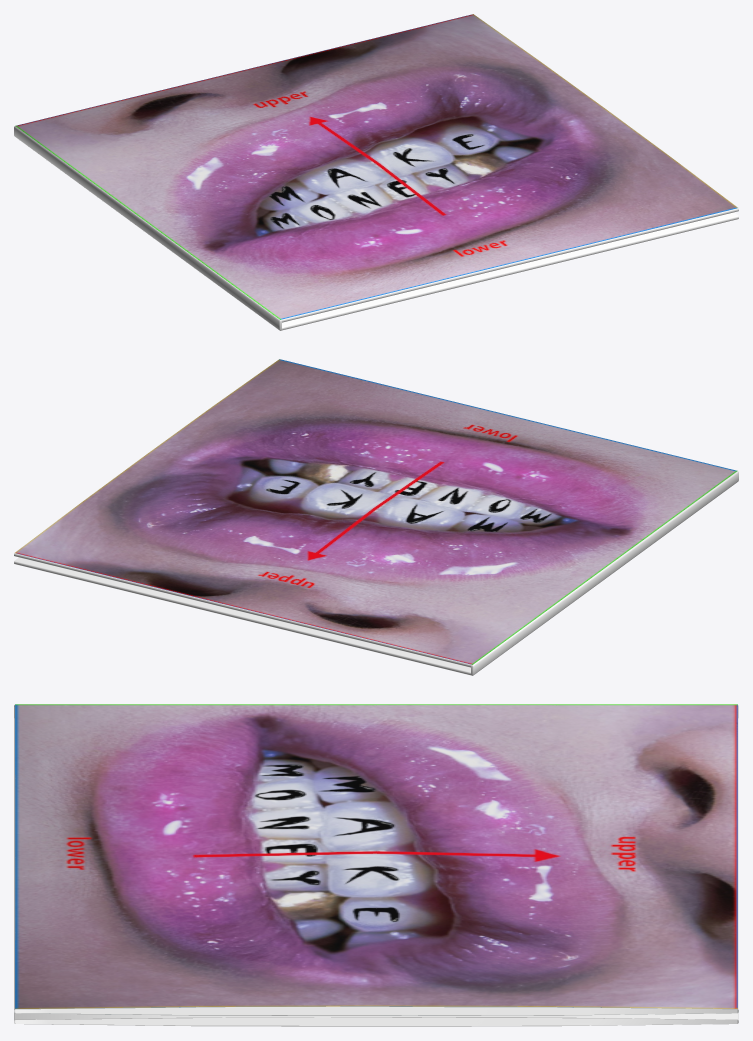
Rendered from sleeve_10_gatefold_AxisMove_group_re1.dae.
3 views of the same model, one above another, from view 1: azimuth 30°, elevation 25°; view 2: azimuth 150°, elevation 25°; view 3: azimuth 270°, elevation 25° (orthographic). The views are drawn at different scales.
Visible parts, largest first — view 1: Front, Back, Spine; view 2: Front, Back, Spine; view 3: Front, Back.
Part boxes in pixels (x1,y1,x2,y2): Front: [15, 14, 738, 322]; Back: [281, 212, 738, 330]; Spine: [14, 126, 281, 330]; Front: [14, 359, 737, 667]; Back: [14, 557, 471, 675]; Spine: [471, 471, 738, 675]; Front: [14, 704, 738, 1015]; Back: [14, 1013, 738, 1026].
Size of the model in its own units: 26.44 by 0.9986 by 26.51.
Materials: 3 (3 with a texture image).
